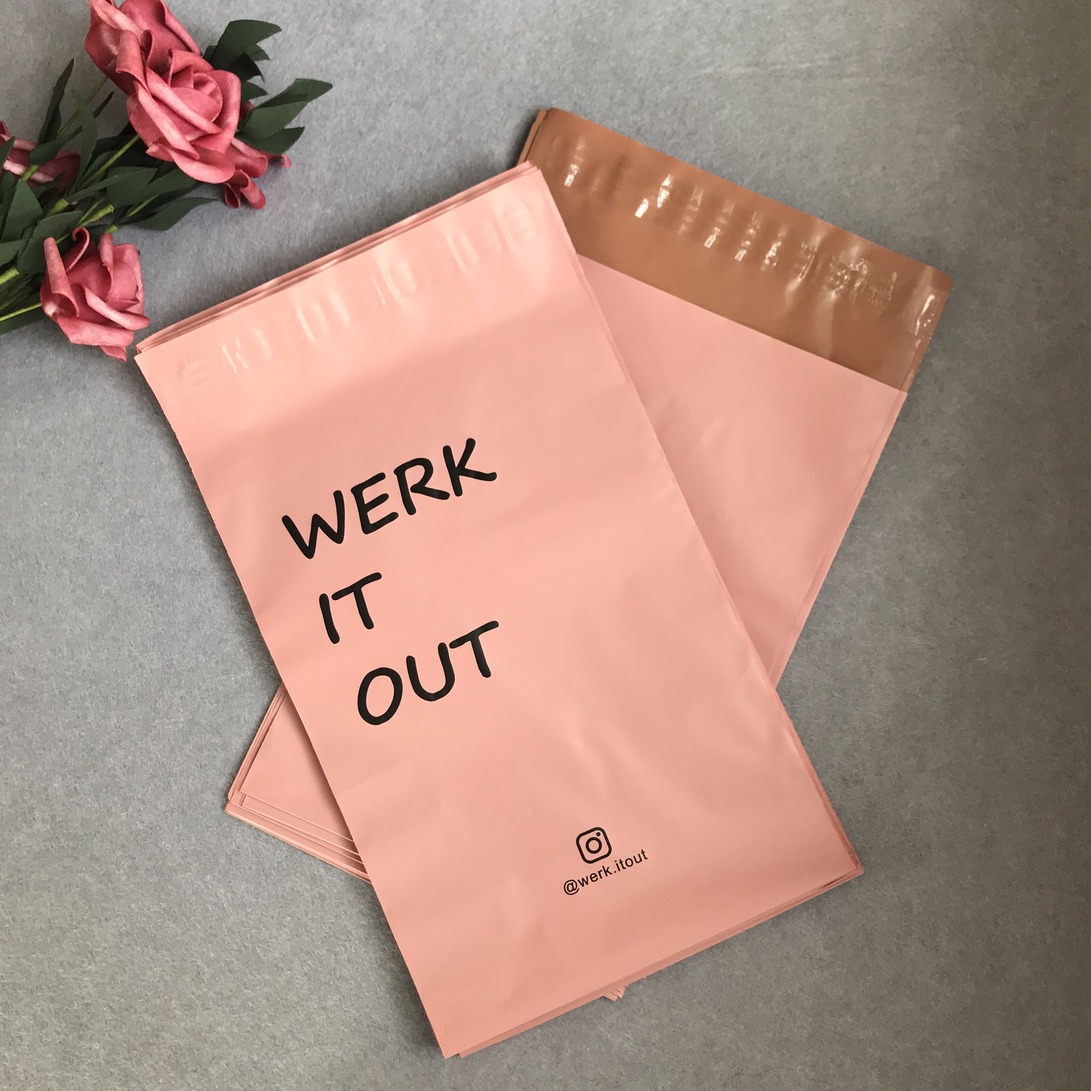塑料袋: (137, 110, 948, 1055)
